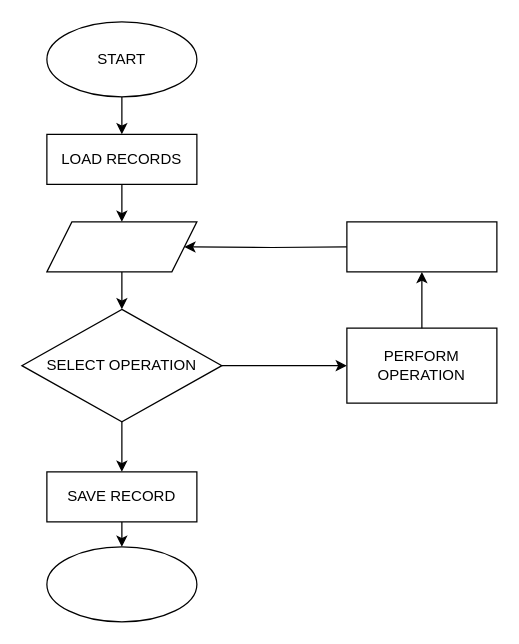
Some shapes in this 519 by 644 pixel diagram are drawn without their labels. Each missing label, with the centre of its shape:
"DISPLAY MENU" belongs at point 121,246.
"END" belongs at point 121,584.
"UPDATE RECORD" belongs at point 421,246.
